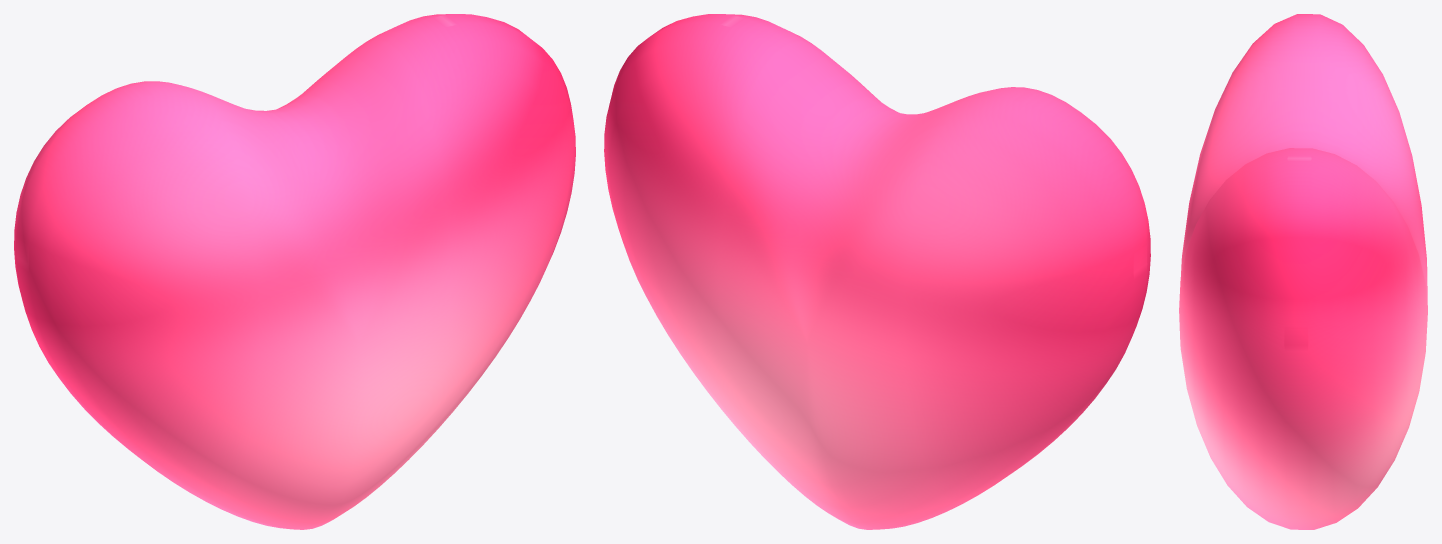
The model's file is heart-rose-v3.glb.
3 views of the same model, side by side, from view 1: azimuth 30°, elevation 25°; view 2: azimuth 150°, elevation 25°; view 3: azimuth 270°, elevation 25° (orthographic). The views are drawn at different scales.
Parts seen in each view (by area): view 1: Heart_Glass; view 2: Heart_Glass; view 3: Heart_Glass.
Boxes of the visible parts, x1,y1,x2,y2 form: Heart_Glass: (14,14,575,529); Heart_Glass: (604,14,1150,529); Heart_Glass: (1179,14,1427,529).
Bounding box in the file's own units: 0.0801 × 0.0665 × 0.0347.
Materials: 1 (1 with a texture image).
